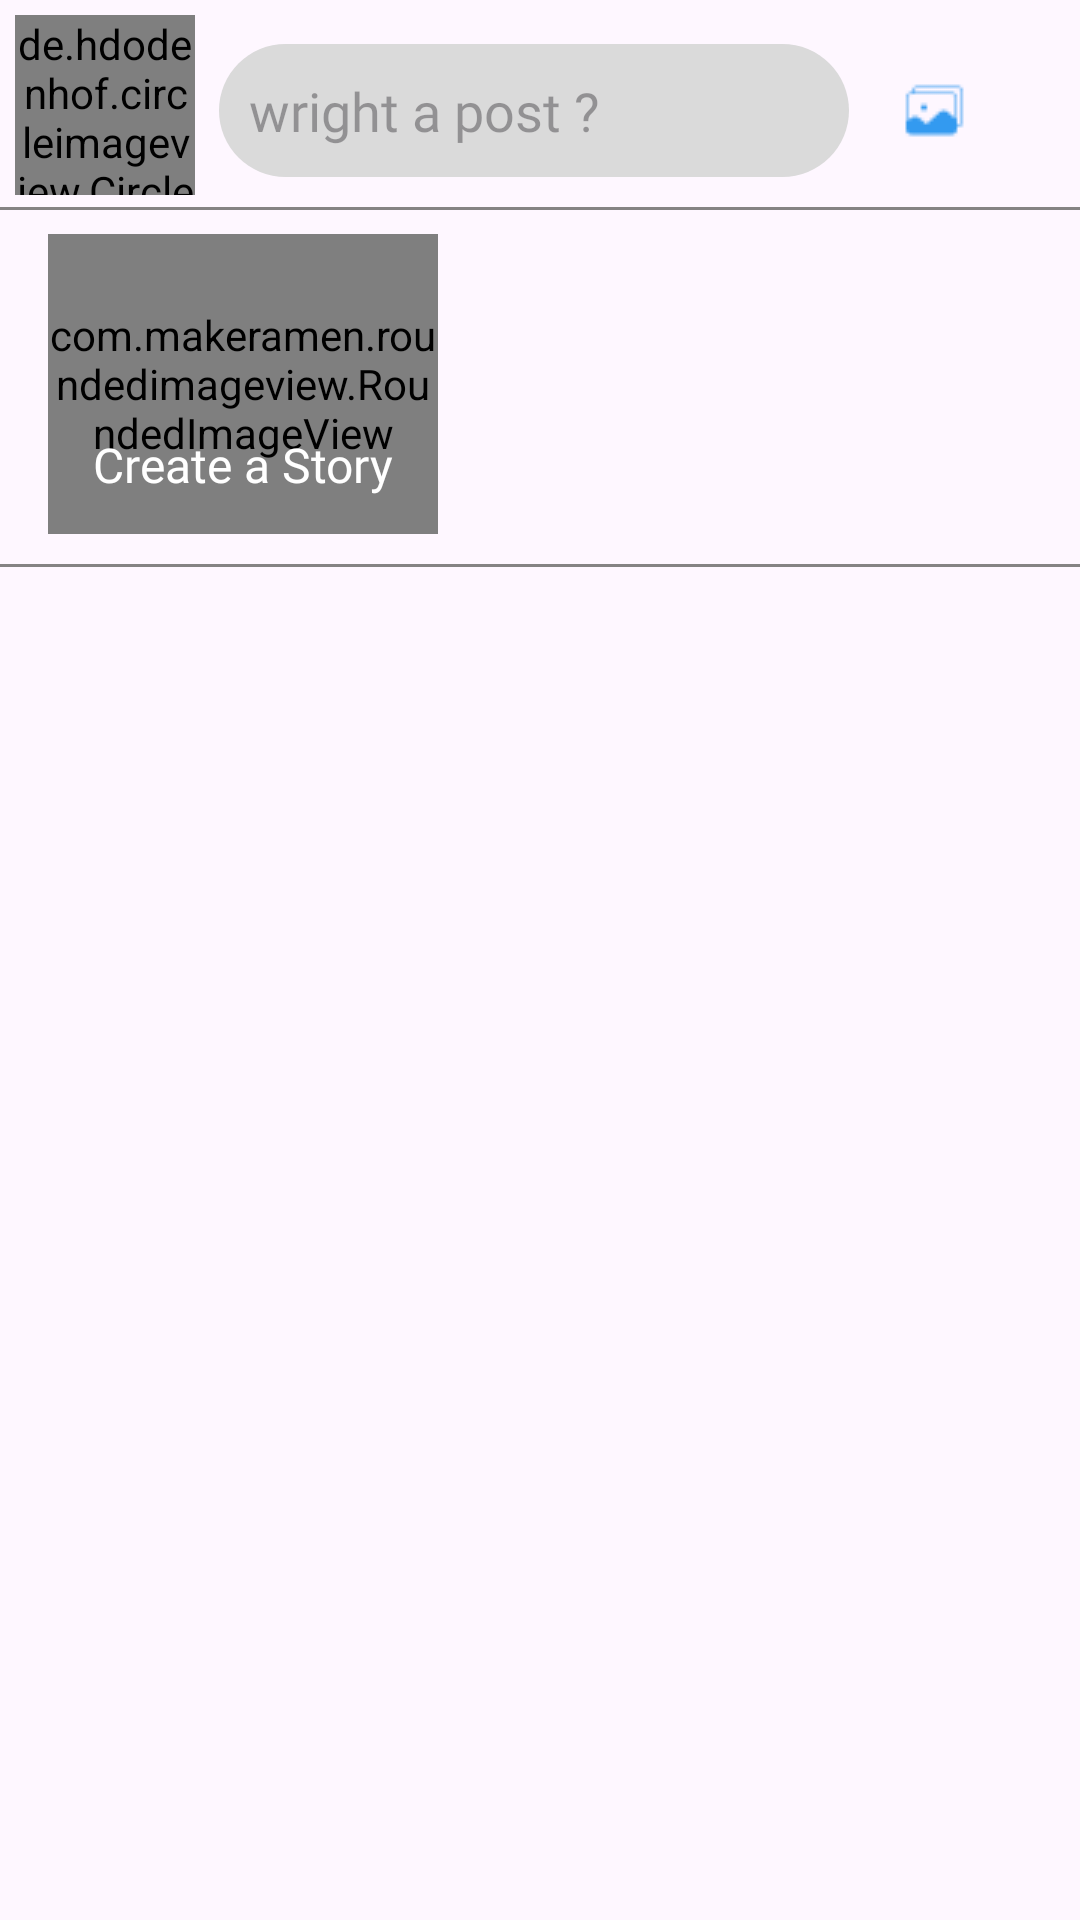

Screen size 1080x1920. Icon name, then its box in pixels as (x1, y1, x2, y2):
gallery: (905, 84, 964, 137)
